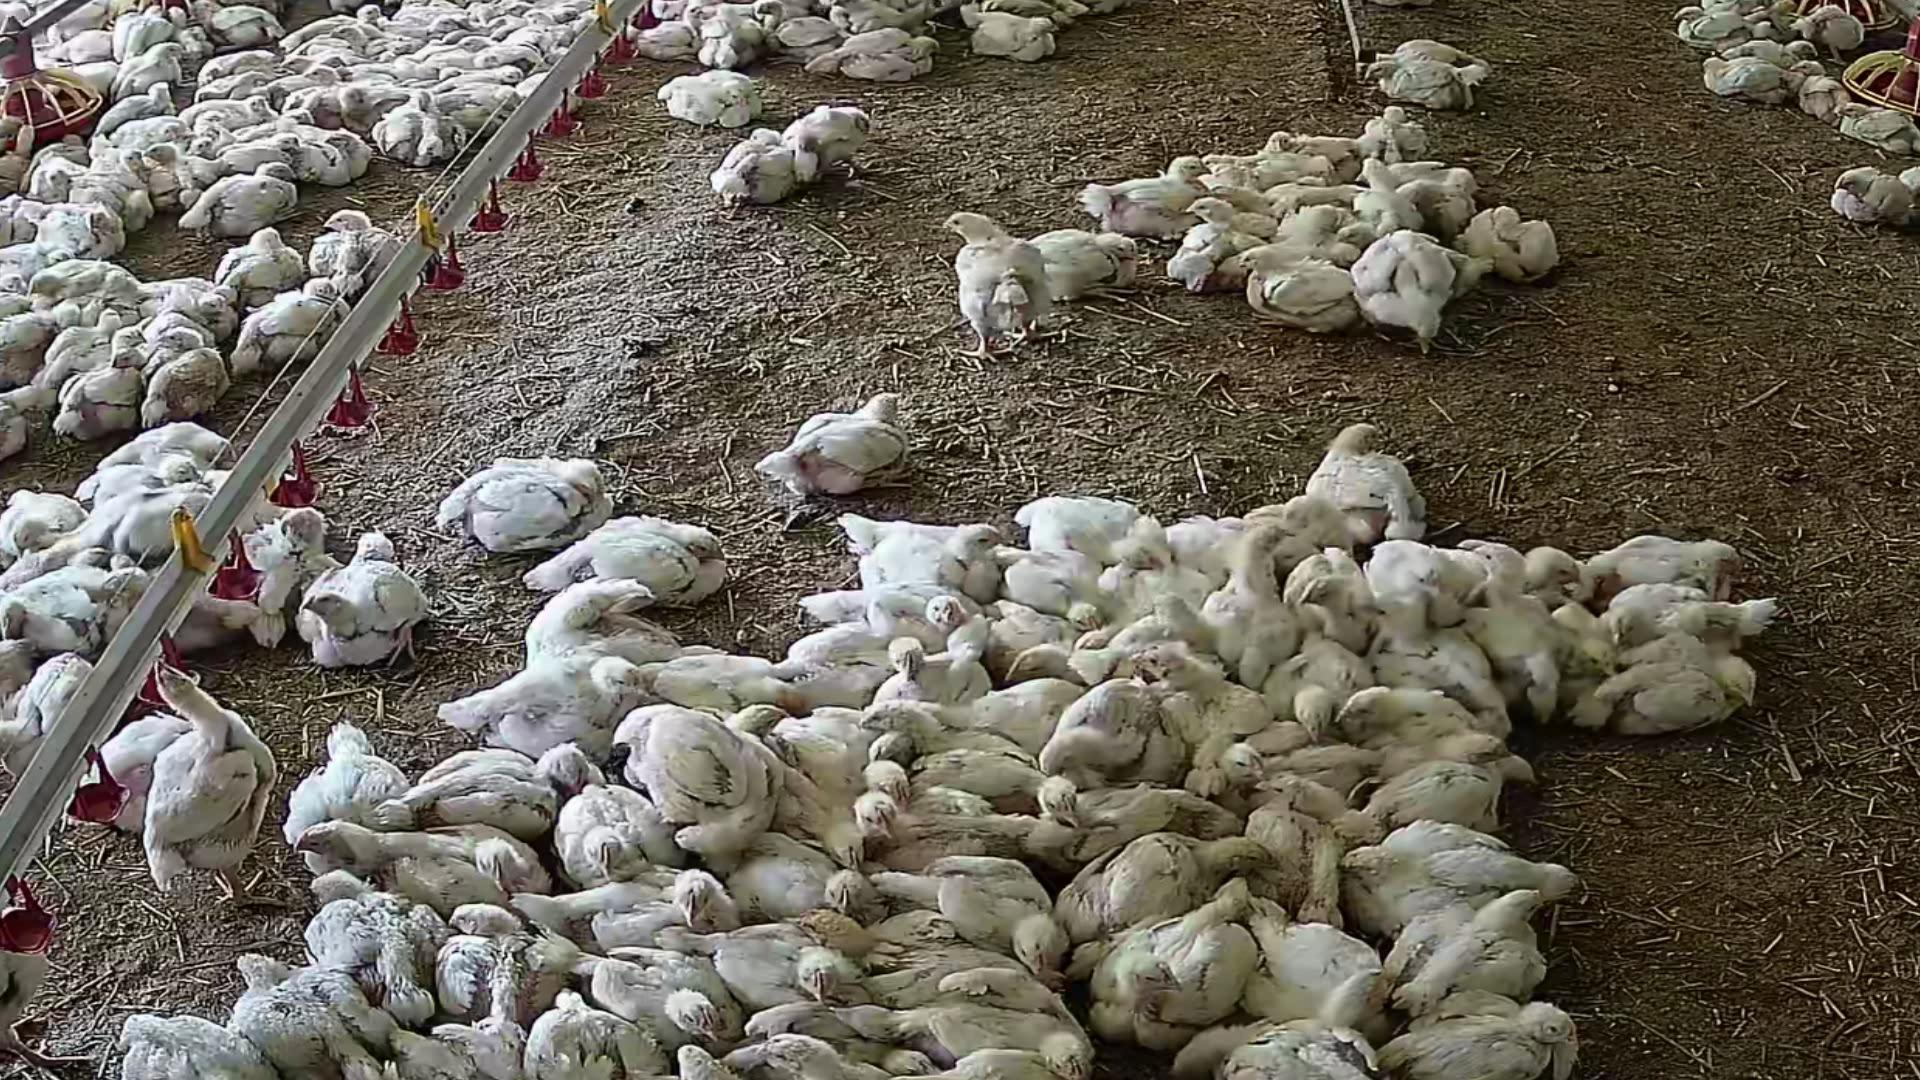poussin: (131, 653, 291, 927), (1092, 884, 1262, 1055), (421, 419, 637, 551), (1342, 819, 1582, 934), (1375, 878, 1565, 1009), (615, 708, 783, 855), (1374, 973, 1593, 1080), (291, 520, 440, 675), (862, 699, 1048, 818), (444, 659, 629, 777), (539, 495, 735, 605), (306, 873, 447, 1023), (406, 720, 575, 841), (429, 895, 556, 1051), (543, 857, 745, 955), (1059, 829, 1279, 918), (1233, 766, 1349, 931), (758, 397, 952, 495), (840, 502, 1011, 612), (920, 208, 1052, 349), (1040, 767, 1230, 864), (926, 778, 1077, 898), (1473, 539, 1568, 731), (903, 857, 1077, 961), (1247, 907, 1393, 1029), (1311, 419, 1441, 553), (1048, 667, 1176, 800), (307, 732, 406, 902), (237, 953, 367, 1080), (889, 993, 1076, 1080), (1346, 687, 1513, 783), (1600, 634, 1758, 733), (1327, 762, 1510, 847), (388, 810, 537, 913), (1592, 516, 1758, 607), (1370, 634, 1513, 738), (607, 932, 744, 1040), (1156, 1015, 1385, 1080), (740, 832, 873, 942), (791, 894, 969, 975), (1601, 585, 1767, 671), (1354, 240, 1465, 363), (1211, 527, 1305, 670), (83, 719, 233, 807), (549, 774, 665, 886), (1030, 483, 1172, 571), (985, 533, 1124, 622), (1145, 641, 1263, 745), (806, 732, 905, 856), (709, 922, 848, 1009), (0, 647, 92, 775), (525, 985, 647, 1080), (819, 576, 981, 647), (1237, 245, 1350, 345), (1200, 740, 1373, 804), (1373, 535, 1473, 646), (1274, 632, 1385, 731), (766, 626, 891, 709), (251, 512, 339, 626), (119, 996, 237, 1080), (777, 761, 866, 872), (4, 568, 141, 640), (1029, 223, 1150, 303), (65, 328, 149, 443), (1093, 161, 1215, 240), (1453, 204, 1564, 290), (644, 645, 779, 715), (1284, 546, 1371, 653), (708, 113, 799, 211), (789, 87, 884, 179), (876, 636, 998, 707), (1174, 185, 1257, 287), (1818, 161, 1913, 247), (232, 276, 348, 345), (313, 199, 402, 289), (1539, 593, 1611, 704), (198, 160, 311, 229), (146, 327, 233, 418), (384, 1022, 516, 1080), (663, 69, 770, 140), (80, 444, 202, 505), (960, 3, 1065, 71), (218, 222, 309, 301), (1362, 58, 1487, 115), (4, 481, 84, 567), (1350, 160, 1429, 245), (1209, 146, 1346, 194), (125, 421, 232, 481), (1395, 161, 1491, 228), (837, 21, 936, 86), (380, 88, 458, 166), (1222, 173, 1356, 218), (748, 0, 839, 65), (76, 154, 153, 225), (1263, 128, 1371, 178), (38, 203, 125, 264), (290, 120, 377, 181), (46, 311, 127, 376), (1125, 592, 1197, 662), (637, 0, 713, 65), (150, 277, 244, 330), (1838, 96, 1920, 156), (702, 9, 770, 79), (109, 41, 190, 99), (1019, 632, 1106, 684), (1792, 51, 1854, 125), (1795, 4, 1875, 61), (1364, 103, 1433, 167), (1665, 5, 1760, 53), (754, 1035, 855, 1080), (1705, 59, 1793, 109), (196, 0, 287, 47), (1371, 37, 1470, 80), (144, 140, 207, 207), (0, 305, 51, 384), (862, 745, 923, 810), (26, 257, 113, 302), (657, 1029, 723, 1080), (0, 386, 44, 463), (87, 87, 174, 125), (107, 116, 189, 153), (164, 5, 219, 59), (120, 4, 175, 58), (334, 21, 402, 63), (833, 0, 930, 29), (981, 0, 1085, 26), (0, 194, 55, 241), (1735, 38, 1820, 67), (0, 247, 42, 298), (193, 100, 277, 125), (33, 154, 79, 196), (314, 4, 378, 33), (458, 62, 524, 88), (194, 111, 235, 152), (338, 86, 377, 121), (241, 133, 298, 154), (277, 57, 320, 78), (462, 36, 500, 58), (310, 66, 345, 90)
